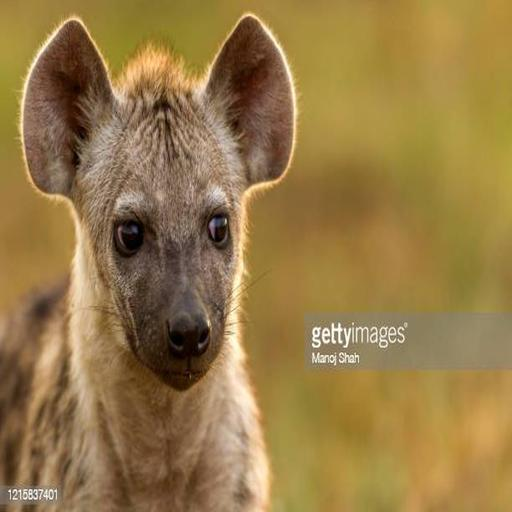Hyena: (0, 1, 309, 511)
